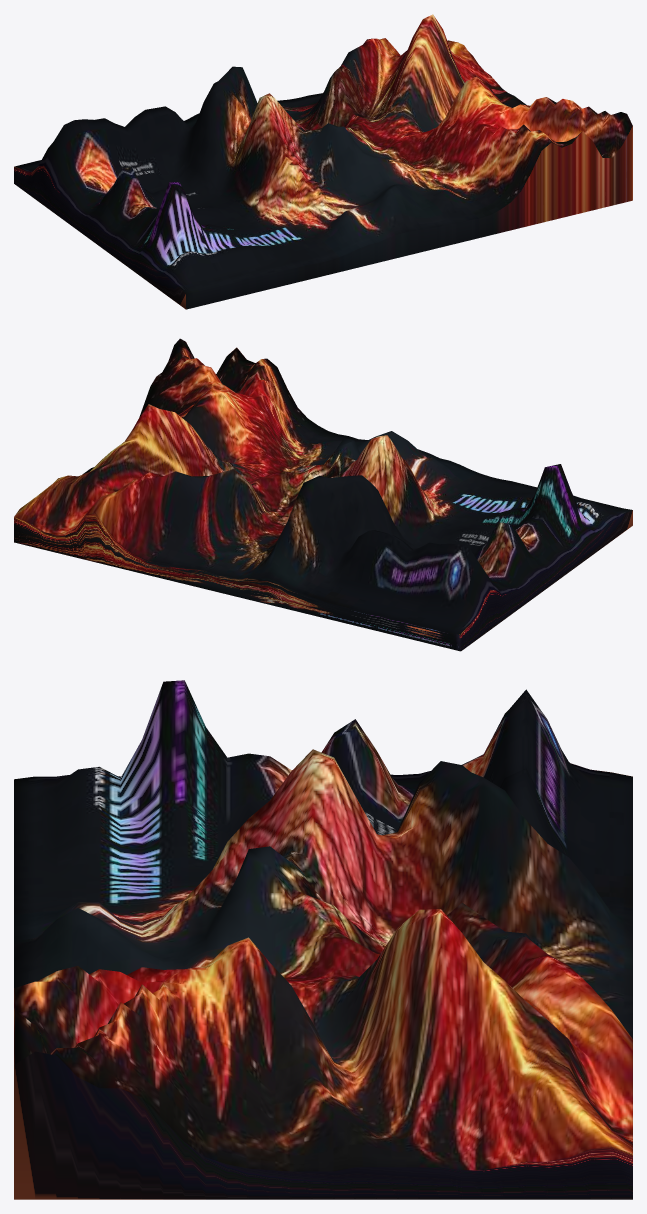
The model's file is MOUNT_06_Phoenix_Mount.glb.
3 renders of one model, top to bottom at view 1: azimuth 30°, elevation 25°; view 2: azimuth 150°, elevation 25°; view 3: azimuth 270°, elevation 25°, orthographic. The views are drawn at different scales.
Visible parts, largest first — view 1: MOUNT_06_Phoenix_Mount; view 2: MOUNT_06_Phoenix_Mount; view 3: MOUNT_06_Phoenix_Mount.
Boxes of the visible parts, box(x1,y1,x2,y2) form: MOUNT_06_Phoenix_Mount: box(14, 14, 632, 309); MOUNT_06_Phoenix_Mount: box(14, 338, 632, 651); MOUNT_06_Phoenix_Mount: box(14, 680, 632, 1199).
Bounding box in the file's own units: 2 × 0.51 × 1.33.
1 material, 1 textured.
